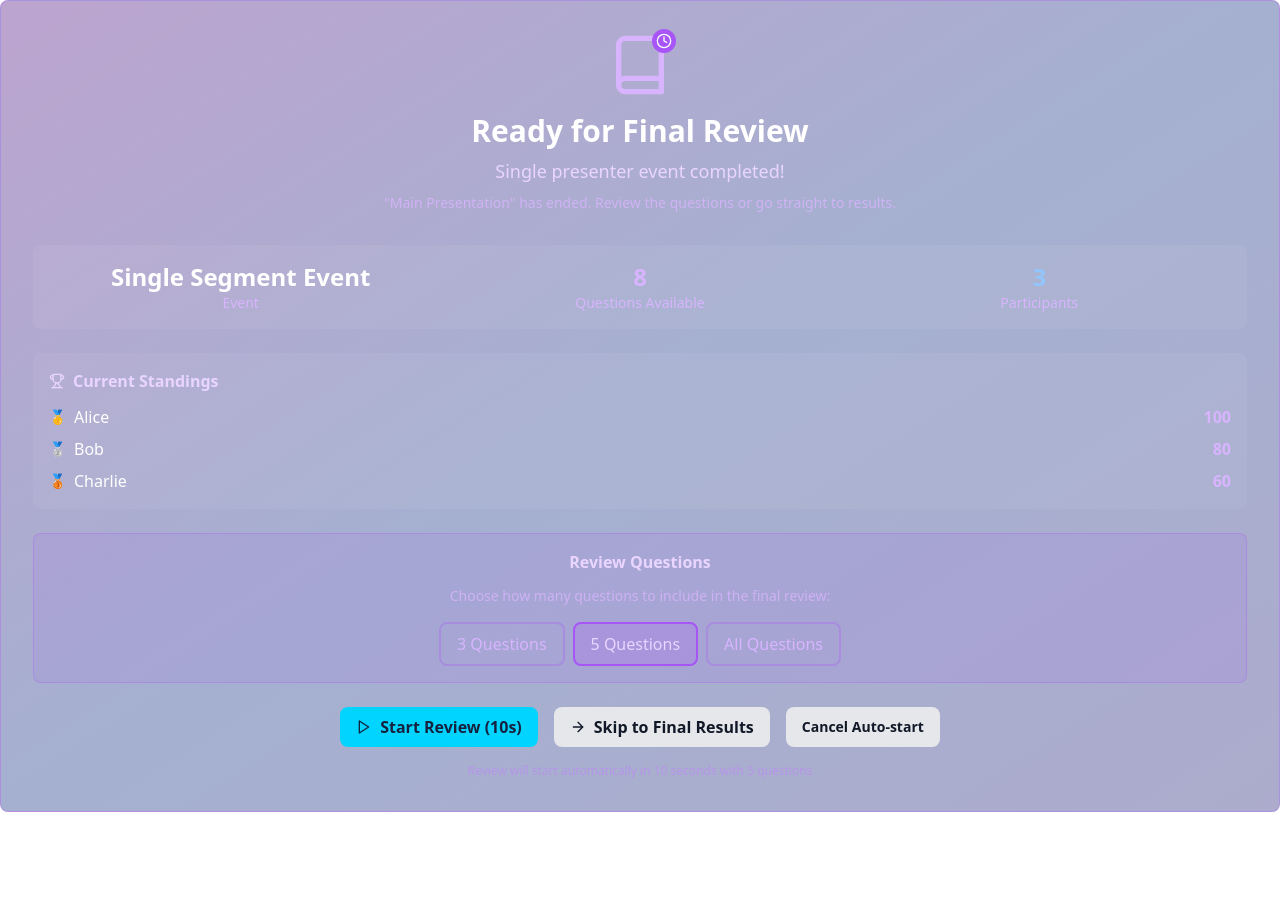
SingleSegmentReview › should cancel auto-start when cancel button clicked
Click the button "Cancel Auto-start".
click(863, 727)  # box [786, 707, 940, 747]
Wait 15000 ms
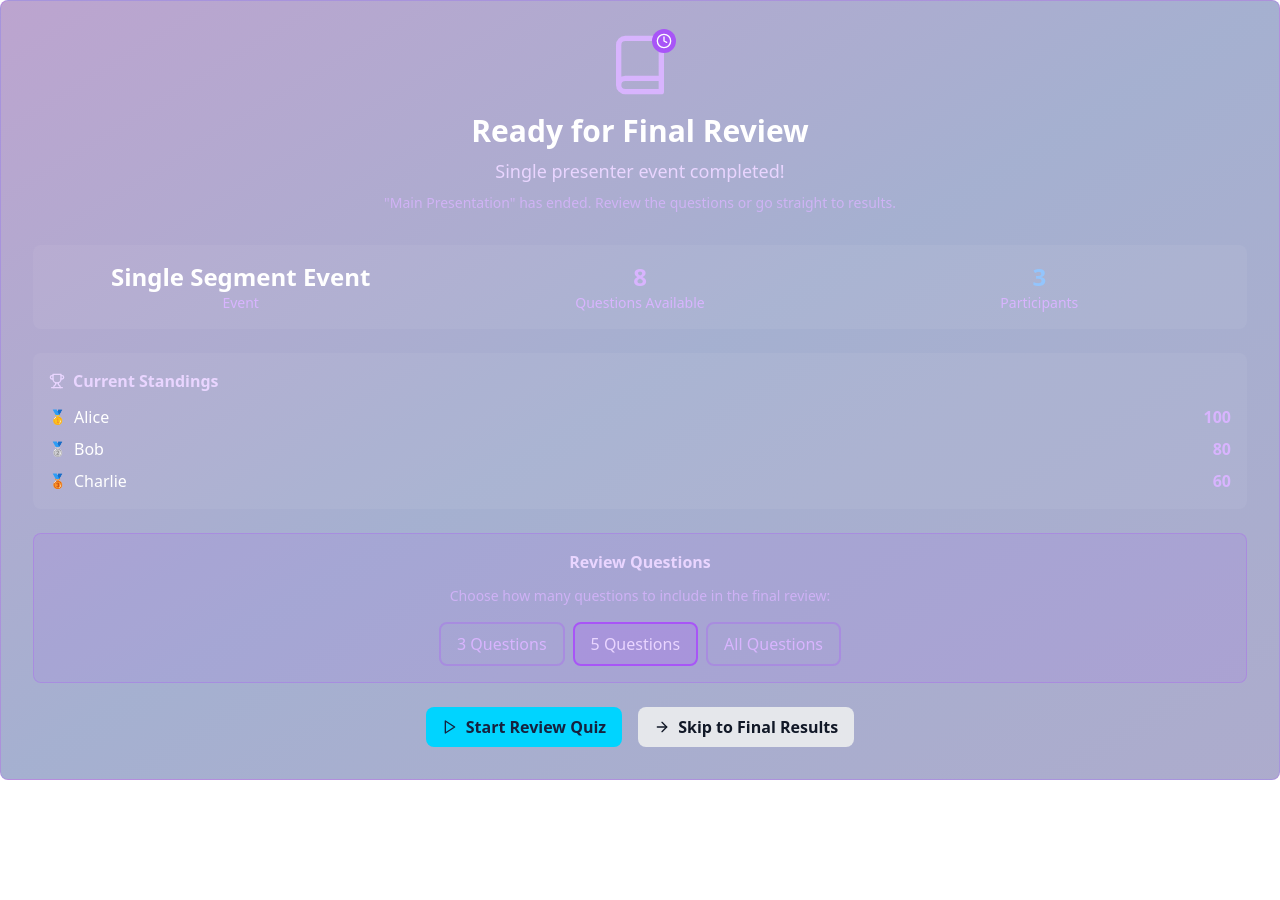
Expected: the button "Start Review Quiz" is shown, [426, 707, 622, 747]
